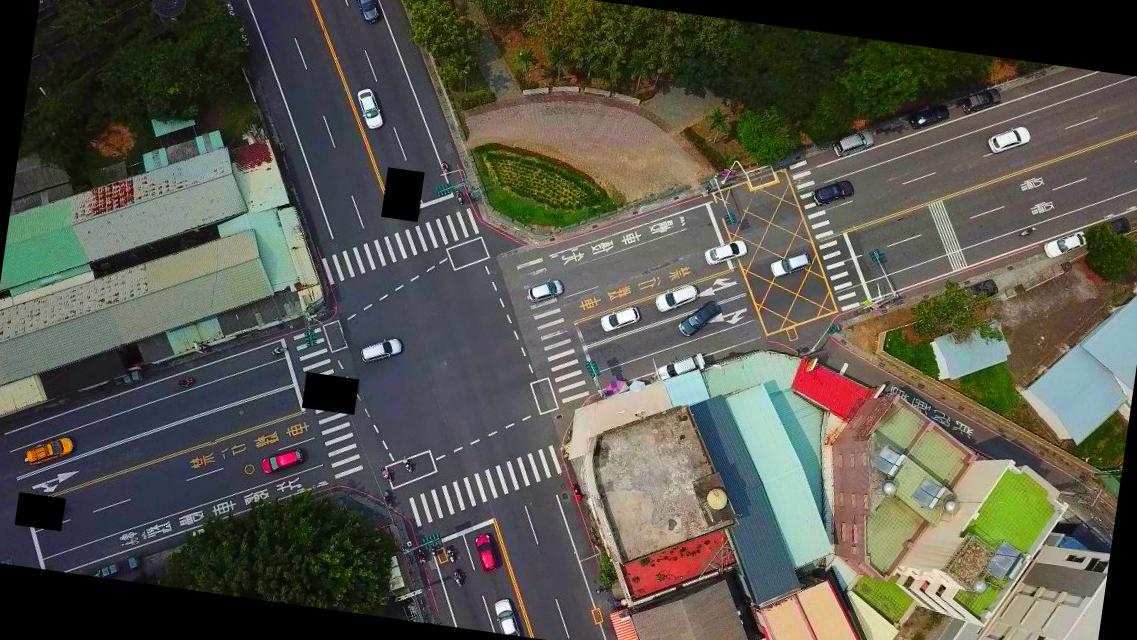vehicle: (656, 347, 707, 388), (26, 432, 76, 472), (677, 296, 722, 340), (358, 330, 406, 370), (702, 234, 751, 272), (1042, 224, 1088, 264), (830, 124, 878, 162), (260, 442, 308, 480), (470, 530, 508, 577), (652, 280, 699, 318), (351, 88, 391, 132), (810, 174, 858, 210), (958, 83, 1004, 119), (987, 122, 1032, 158), (489, 597, 529, 636), (769, 247, 812, 283), (906, 100, 950, 134), (599, 302, 642, 336), (526, 275, 566, 305), (349, 0, 384, 29)
